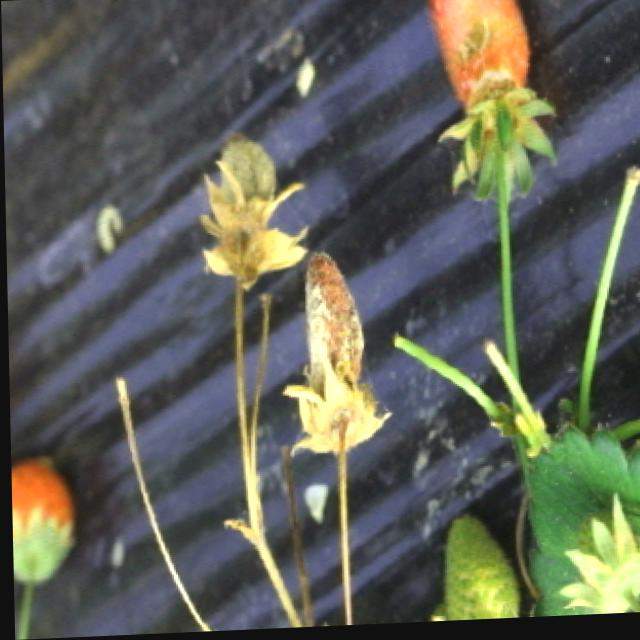Gray Mold: (278, 252, 389, 458), (199, 139, 307, 297)
